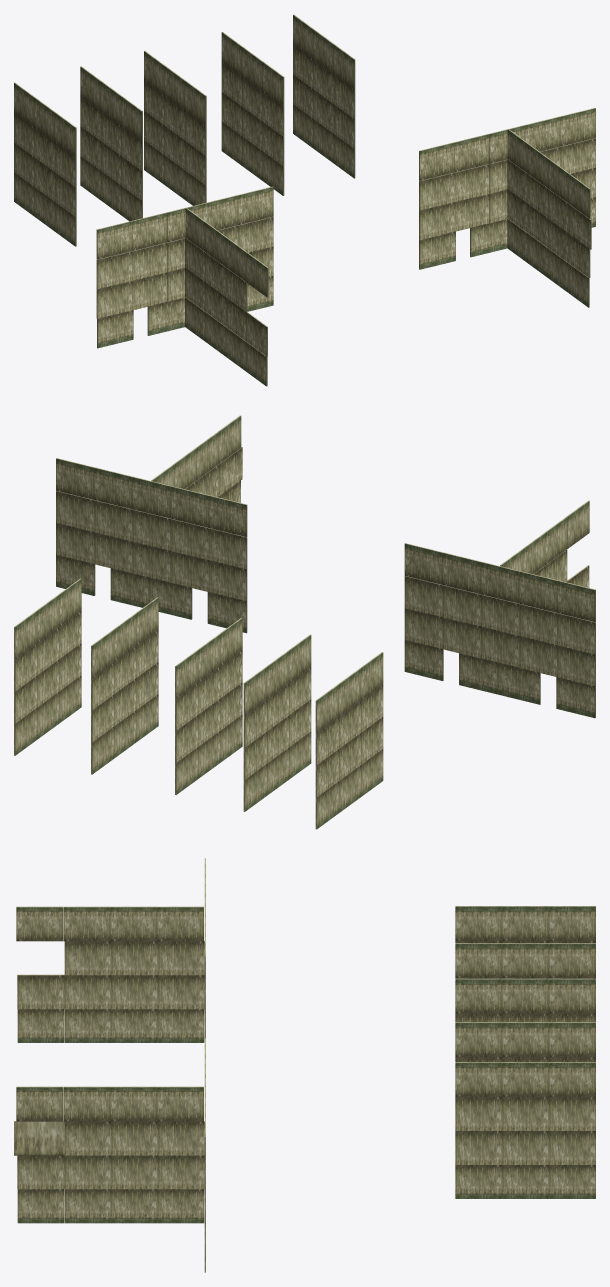
File: HospitalRooms2.fbx
3 views of the same model, one above another, from view 1: azimuth 30°, elevation 25°; view 2: azimuth 150°, elevation 25°; view 3: azimuth 270°, elevation 25° (orthographic). The views are drawn at different scales.
Visible parts, largest first — view 1: Cube.003, Cube.021, Cube.007, Cube.002, Cube.008, Cube.004, Cube.005; view 2: Cube.003, Cube.021, Cube.004, Cube.002, Cube.007, Cube.008, Cube.005; view 3: Cube.003, Cube.021, Cube.008, Cube.005, Cube.007, Cube.002, Cube.004.
Part boxes in pixels (x1,y1,x2,y2): Cube.003: (419, 108, 595, 307); Cube.021: (96, 186, 273, 386); Cube.007: (221, 32, 284, 195); Cube.002: (14, 82, 76, 246); Cube.008: (293, 14, 355, 178); Cube.004: (80, 66, 142, 221); Cube.005: (144, 51, 206, 205); Cube.003: (56, 415, 247, 633); Cube.021: (404, 500, 595, 718); Cube.004: (243, 634, 311, 811); Cube.002: (315, 652, 383, 829); Cube.007: (91, 597, 158, 774); Cube.008: (14, 578, 81, 755); Cube.005: (175, 617, 242, 794); Cube.003: (14, 1038, 205, 1272); Cube.021: (16, 858, 205, 1042); Cube.008: (455, 1062, 595, 1198); Cube.005: (455, 978, 595, 1022); Cube.007: (455, 1022, 595, 1061); Cube.002: (455, 906, 595, 943); Cube.004: (455, 943, 595, 978).
Bounding box in the file's own units: 16867 × 3859 × 14882.
Materials: 73 (73 with a texture image).
